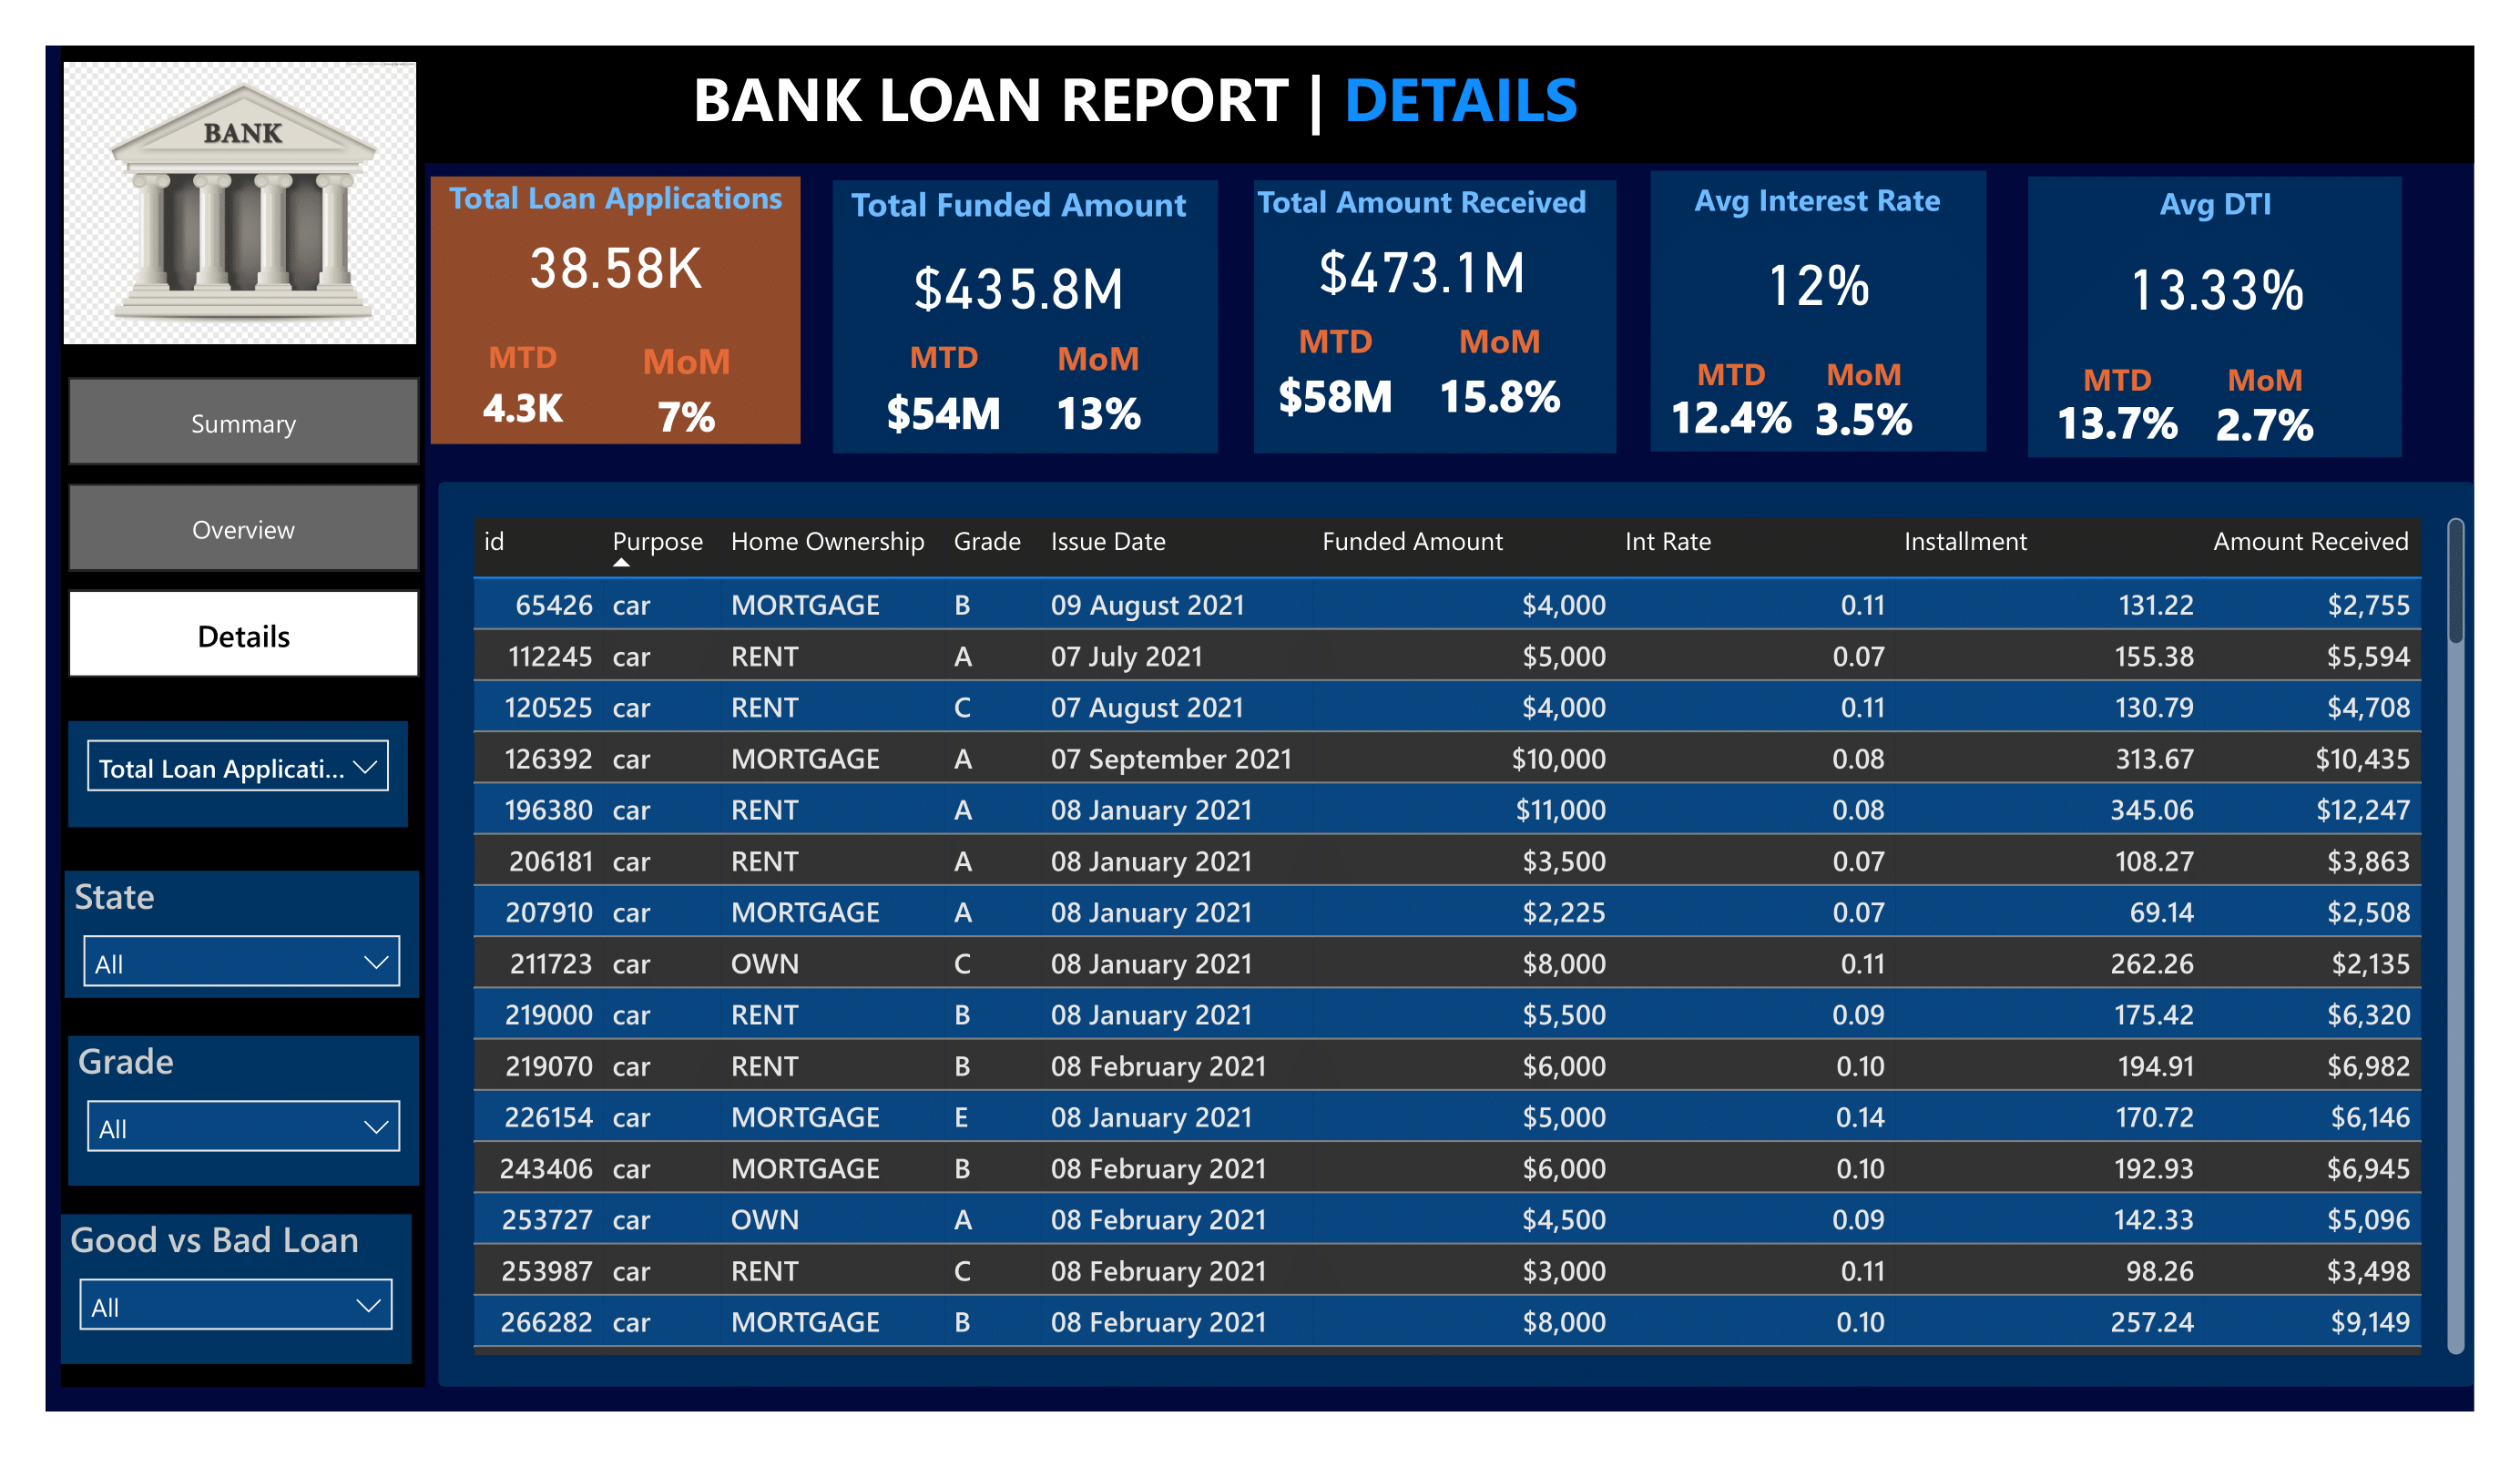

Layout of this report page (visuals, bound fields, positions):
{"tool":"powerbi","page":{"name":"Details","canvas":[1280,720],"ordinal":2},"visuals":[{"type":"shape","box":[8.4,0,1271.6,62.2],"z":0},{"type":"shape","box":[203.3,68.9,194.9,141.1],"z":0,"group":"g1"},{"type":"shape","box":[414.9,70.6,203.3,144.5],"z":0,"group":"g2"},{"type":"shape","box":[636.6,70.6,191.5,144.5],"z":1000},{"type":"shape","box":[8.4,62.2,192,645],"z":2000},{"type":"shape","box":[846.6,65.5,176.9,147.8],"z":2000,"group":"g3"},{"type":"shape","box":[1044.8,68.9,197.5,147.8],"z":2000,"group":"g4"},{"type":"textbox","box":[336,0,562.7,62.2],"z":3000},{"type":"card","title":"Total Loan Applications","fields":{"Values":["financial_loan.Total Loan Applications"]},"box":[203.3,68.9,194.9,70.6],"z":3000,"group":"g1"},{"type":"card","title":"Total Funded Amount","fields":{"Values":["financial_loan.total funded amount"]},"box":[408.2,70.6,210,87.3],"z":3000,"group":"g2"},{"type":"group","id":"g1","title":"Group 3","box":[203.3,68.9,194.9,146.1],"z":4000},{"type":"card","title":"MTD","fields":{"Values":["financial_loan.MTD Loan Application"]},"box":[206.7,152.9,90.7,57.1],"z":4000,"group":"g1"},{"type":"card","title":"MTD","fields":{"Values":["financial_loan.MTD funded Amount"]},"box":[433.4,152.9,80.6,62.2],"z":4000,"group":"g2"},{"type":"group","id":"g2","title":"Group 4","box":[408.2,70.6,210,144.5],"z":5000},{"type":"card","title":"Total Amount Received","fields":{"Values":["financial_loan.total amount received"]},"box":[628.2,70.6,194.9,72.2],"z":5000,"group":"g5"},{"type":"card","title":"MoM","fields":{"Values":["financial_loan.MOM funded maount"]},"box":[514,151.2,82.3,62.2],"z":5000,"group":"g2"},{"type":"card","title":"MoM","fields":{"Values":["financial_loan.MOM loan application"]},"box":[297.4,152.9,82.3,62.2],"z":5000,"group":"g1"},{"type":"group","id":"g3","title":"Group 1","box":[833.1,65.5,201.6,147.8],"z":6000},{"type":"card","title":"Avg Interest Rate","fields":{"Values":["financial_loan.Avg int rate"]},"box":[833.1,69.1,201.6,87],"z":6000,"group":"g3"},{"type":"card","title":"Avg DTI","fields":{"Values":["financial_loan.Avg dti"]},"box":[1044.9,72.3,198.2,87.3],"z":6000,"group":"g4"},{"type":"group","id":"g4","title":"Group 2","box":[1044.8,68.9,198.3,147.8],"z":7000},{"type":"card","title":"MTD","fields":{"Values":["financial_loan.MTD total Amount"]},"box":[631.6,142.8,97.4,62.2],"z":7000,"group":"g5"},{"type":"group","id":"g5","title":"Group 5","box":[628.2,70.6,194.9,134.4],"z":8000},{"type":"card","title":"MTD","fields":{"Values":["financial_loan.MTD avg int rate"]},"box":[846.6,161.2,84.2,48.7],"z":8000,"group":"g3"},{"type":"card","title":"MTD","fields":{"Values":["financial_loan.MTD avg dti rate"]},"box":[1044.8,164.6,94,48.7],"z":8000,"group":"g4"},{"type":"card","title":"MoM","fields":{"Values":["financial_loan.Mom total amount received"]},"box":[725.6,142.8,82.3,62.2],"z":9000,"group":"g5"},{"type":"slicer","title":"State","fields":{"Values":["financial_loan.address_state"]},"box":[10.1,435.1,186.5,67.2],"z":9000},{"type":"card","title":"MoM","fields":{"Values":["financial_loan.MOM avg int rate"]},"box":[919,161.2,79.2,50.4],"z":10000,"group":"g3"},{"type":"card","title":"MoM","fields":{"Values":["financial_loan.MoM dti"]},"box":[1125.7,164.6,88.4,50.4],"z":10000,"group":"g4"},{"type":"slicer","title":"Grade","fields":{"Values":["financial_loan.grade"]},"box":[11.8,522.4,184.8,79],"z":10000},{"type":"slicer","title":"Good vs Bad Loan","fields":{"Values":["financial_loan.good vs bad loan"]},"box":[8.4,616.5,184.8,79],"z":11000},{"type":"slicer","fields":{"Values":["select measure.select measure"]},"box":[11.8,356.1,179.7,55.4],"z":12000},{"type":"shape","box":[206.6,230.1,1073.4,477.1],"z":13000},{"type":"tableEx","fields":{"Values":["financial_loan.id","financial_loan.purpose","financial_loan.home_ownership","financial_loan.grade","financial_loan.issue_date","financial_loan.total funded amount","Sum(financial_loan.int_rate)","Sum(financial_loan.installment)","financial_loan.total amount received"]},"box":[220.1,243.6,1059.9,451.9],"z":14000},{"type":"pageNavigator","box":[11.8,174.7,184.8,157.9],"z":15000},{"type":"image","box":[5,0,194.9,164.6],"z":16000}]}

Visuals, with their boxes on the page's 1280x720 design canvas (x1, y1, x2, y2). These are canvas units, not pixel positions in the 2520x1457 screenshot, which may show the page scaled, cropped or inside an application window:
shape: l=8, t=0, r=1280, b=62
shape: l=203, t=69, r=398, b=210
shape: l=415, t=71, r=618, b=215
shape: l=637, t=71, r=828, b=215
shape: l=8, t=62, r=200, b=707
shape: l=847, t=66, r=1024, b=213
shape: l=1045, t=69, r=1242, b=217
textbox: l=336, t=0, r=899, b=62
"Total Loan Applications" card: l=203, t=69, r=398, b=140
"Total Funded Amount" card: l=408, t=71, r=618, b=158
"Group 3" group: l=203, t=69, r=398, b=215
"MTD" card: l=207, t=153, r=297, b=210
"MTD" card: l=433, t=153, r=514, b=215
"Group 4" group: l=408, t=71, r=618, b=215
"Total Amount Received" card: l=628, t=71, r=823, b=143
"MoM" card: l=514, t=151, r=596, b=213
"MoM" card: l=297, t=153, r=380, b=215
"Group 1" group: l=833, t=66, r=1035, b=213
"Avg Interest Rate" card: l=833, t=69, r=1035, b=156
"Avg DTI" card: l=1045, t=72, r=1243, b=160
"Group 2" group: l=1045, t=69, r=1243, b=217
"MTD" card: l=632, t=143, r=729, b=205
"Group 5" group: l=628, t=71, r=823, b=205
"MTD" card: l=847, t=161, r=931, b=210
"MTD" card: l=1045, t=165, r=1139, b=213
"MoM" card: l=726, t=143, r=808, b=205
"State" slicer: l=10, t=435, r=197, b=502
"MoM" card: l=919, t=161, r=998, b=212
"MoM" card: l=1126, t=165, r=1214, b=215
"Grade" slicer: l=12, t=522, r=197, b=601
"Good vs Bad Loan" slicer: l=8, t=616, r=193, b=696
slicer - select measure.select measure: l=12, t=356, r=192, b=412
shape: l=207, t=230, r=1280, b=707
tableEx - financial_loan.id x financial_loan.purpose: l=220, t=244, r=1280, b=696
pageNavigator: l=12, t=175, r=197, b=333
image: l=5, t=0, r=200, b=165
